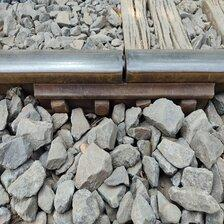railway-gap: (98, 39, 150, 90)
